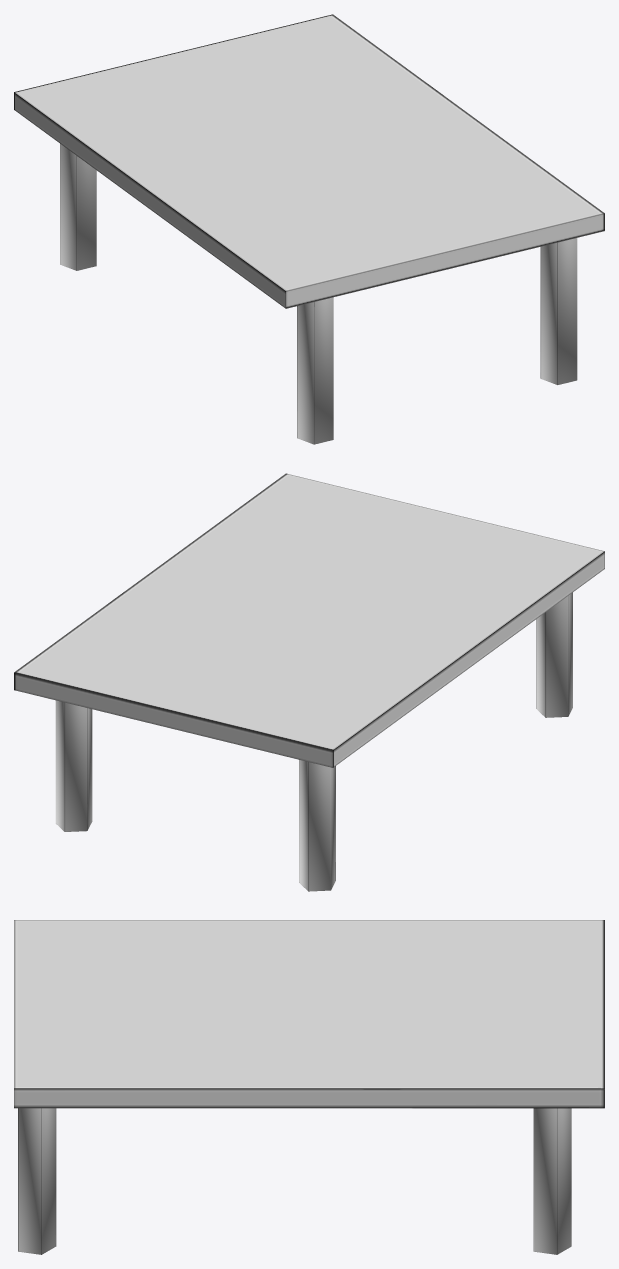
The model's file is Mesa.fbx.
The picture shows the model from 3 angles, top to bottom: view 1: azimuth 30°, elevation 25°; view 2: azimuth 150°, elevation 25°; view 3: azimuth 270°, elevation 25°; orthographic projection. The views are drawn at different scales.
Visible parts, largest first — view 1: Plane, Icosphere.001, Icosphere.000, Icosphere.002; view 2: Plane, Icosphere.003, Icosphere.002, Icosphere.000; view 3: Plane, Icosphere.003, Icosphere.001.
Part boxes in pixels (x1,y1,x2,y2): Plane: (14,14,604,308); Icosphere.001: (540,238,577,384); Icosphere.000: (297,297,333,444); Icosphere.002: (60,144,96,270); Plane: (14,473,604,767); Icosphere.003: (55,700,92,831); Icosphere.002: (299,760,335,891); Icosphere.000: (536,592,572,717); Plane: (14,920,604,1108); Icosphere.003: (533,1108,571,1254); Icosphere.001: (18,1108,56,1254).
Bounding box in the file's own units: 275 × 134 × 407.
Materials: 2 (2 with a texture image).
